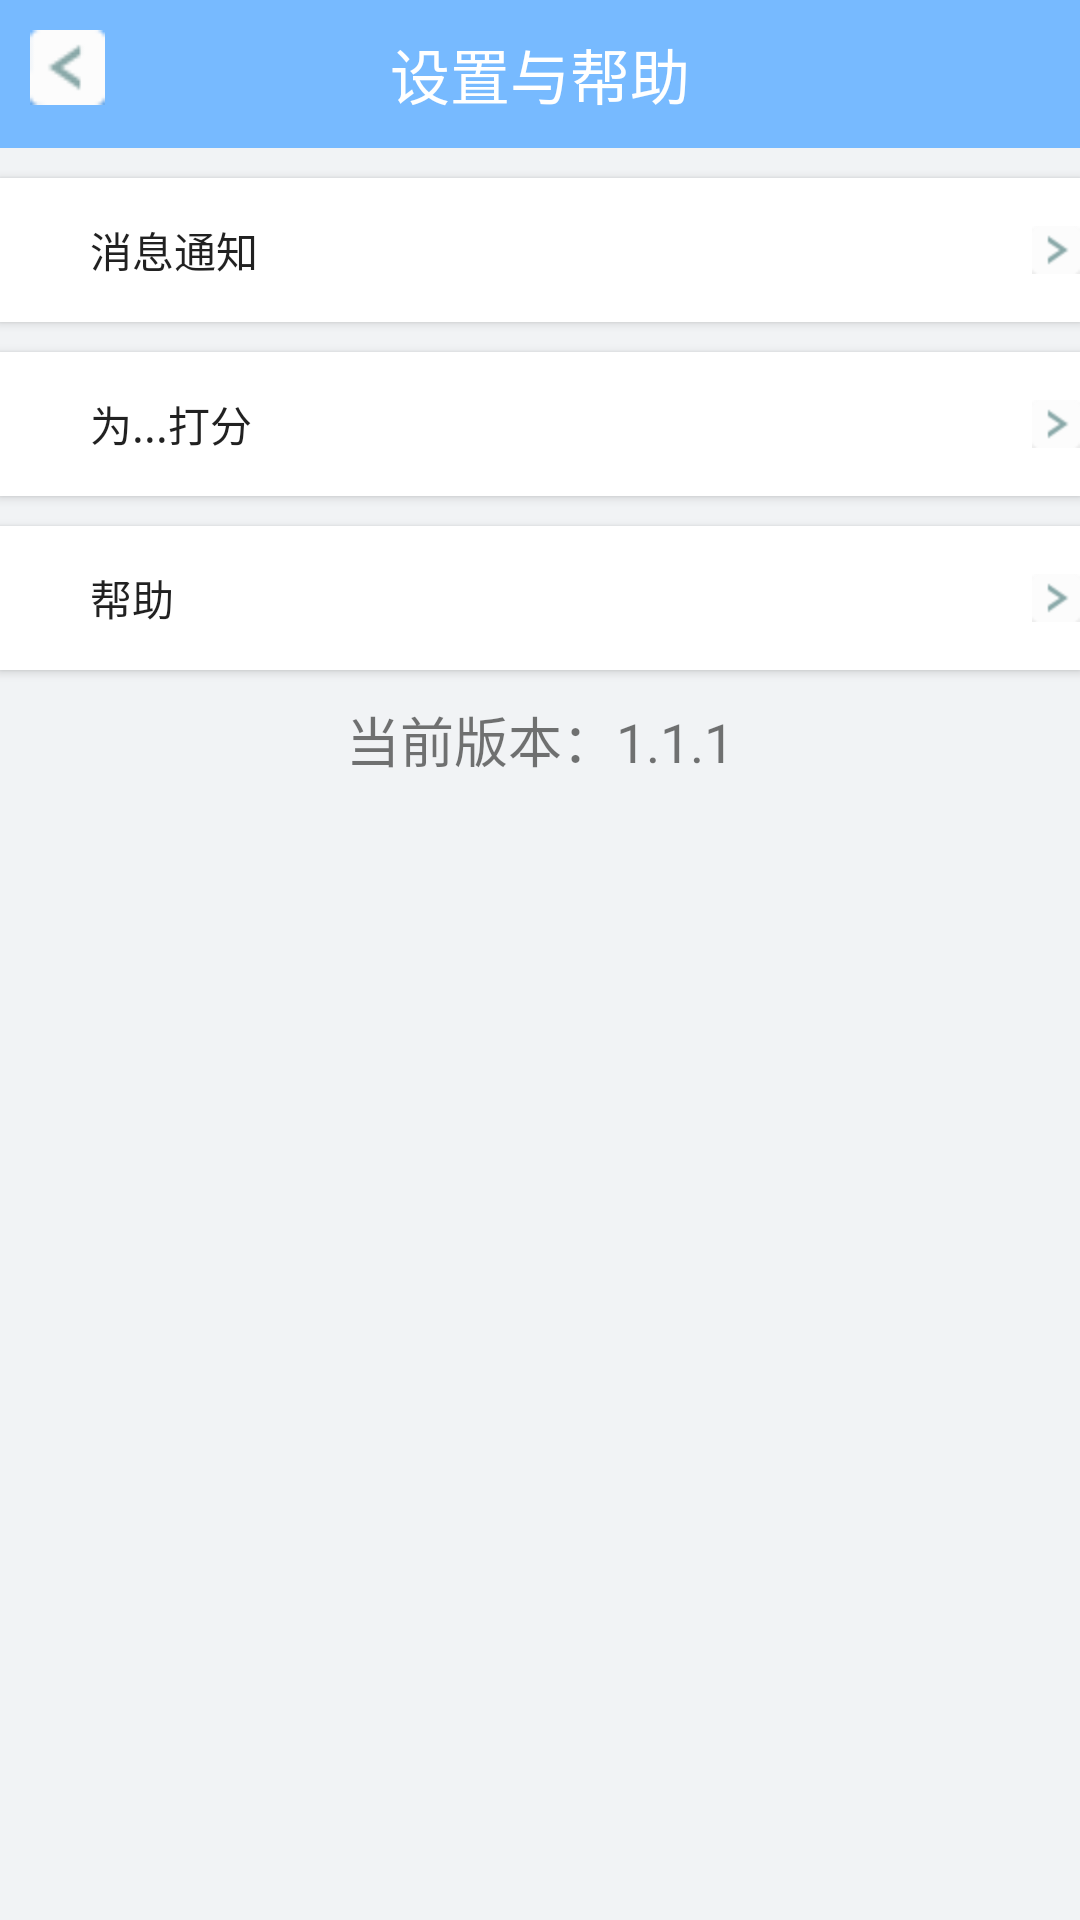

Named icons in this screenshot (1080 x 1920) and their centers, point (x, y):
left: point (67, 67)
